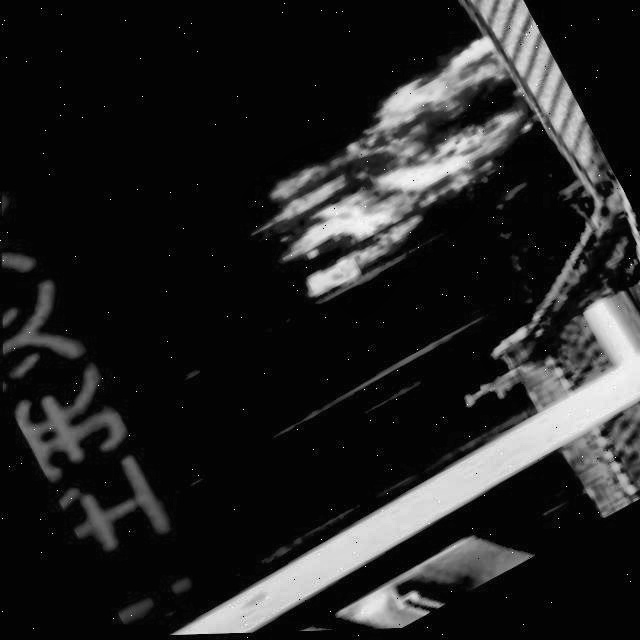Fire: (230, 18, 578, 322)
